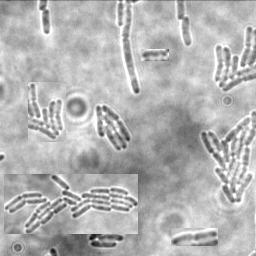Dividing: (123, 1, 142, 95), (171, 228, 218, 246), (41, 8, 52, 35)
Microcolony: (4, 174, 138, 234), (200, 109, 255, 205), (212, 25, 255, 94), (28, 82, 66, 142), (96, 103, 132, 150), (182, 16, 193, 48)
Rod: (141, 49, 169, 61)
